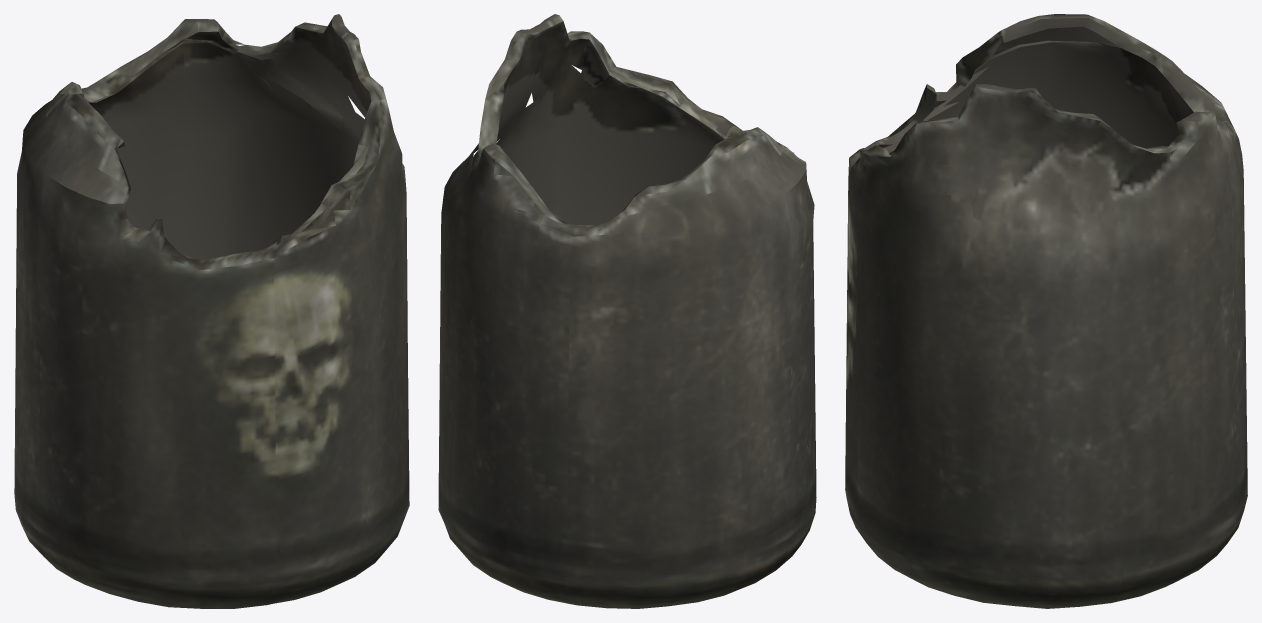
Rendered from item_mm9_10379.glb.
3 views of the same model, side by side, from view 1: azimuth 30°, elevation 25°; view 2: azimuth 150°, elevation 25°; view 3: azimuth 270°, elevation 25° (orthographic). The views are drawn at different scales.
Parts seen in each view (by area): view 1: d10379; view 2: d10379; view 3: d10379.
Part boxes in pixels (bbox=[...]): d10379: bbox=[14, 14, 409, 608]; d10379: bbox=[438, 14, 816, 608]; d10379: bbox=[845, 14, 1247, 608].
Bounding box in the file's own units: 0.7198 × 1 × 0.7194.
1 material, 1 textured.
